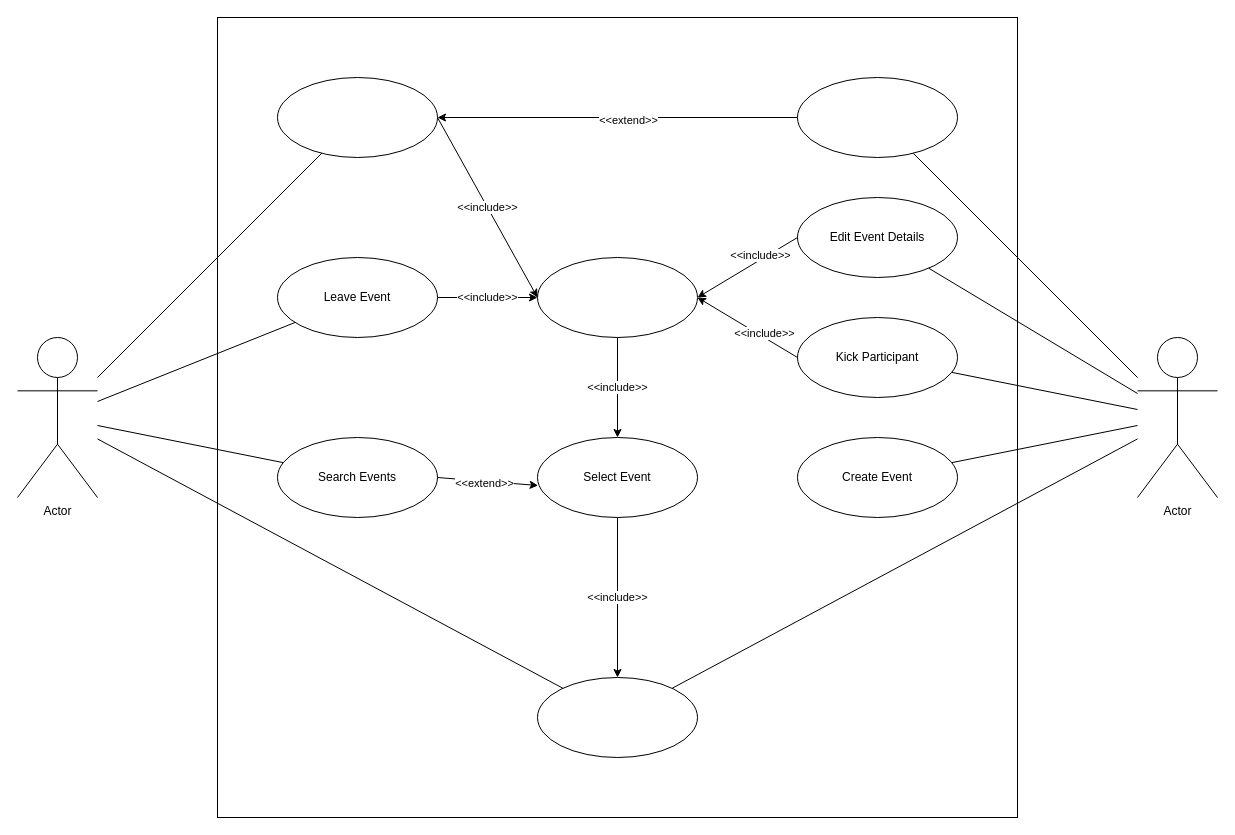
This 1235x835 diagram has some shape labels left out. The centre of each missing label's shape, as x and y in pixels:
"Accept Participant" belongs at point 877,117.
"Join Event" belongs at point 357,117.
"View Event Details" belongs at point 617,297.
"View Event List" belongs at point 617,717.
